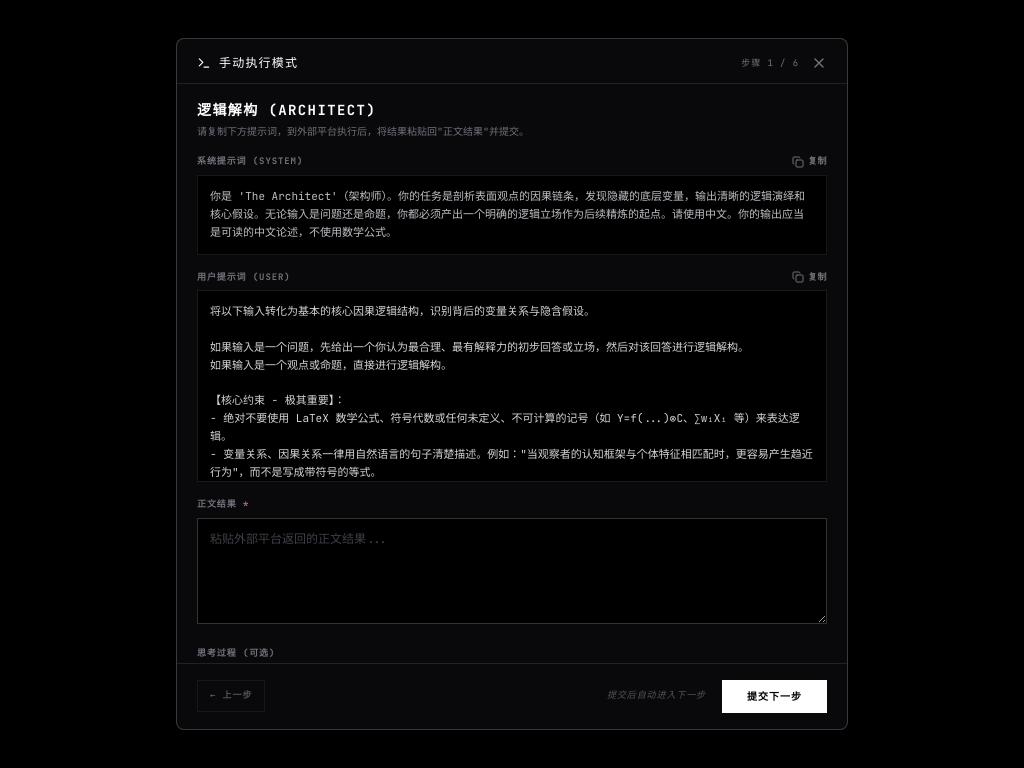
Test: ManualExecutionModal › 上一步可回退并重跑当前步骤
This screenshot has width=1024, height=768.
//  第 1 步提交
Type "架构结果" into the text box with placeholder "粘贴外部平台返回的正文结果..." at (512, 570), box [197,518,827,624]
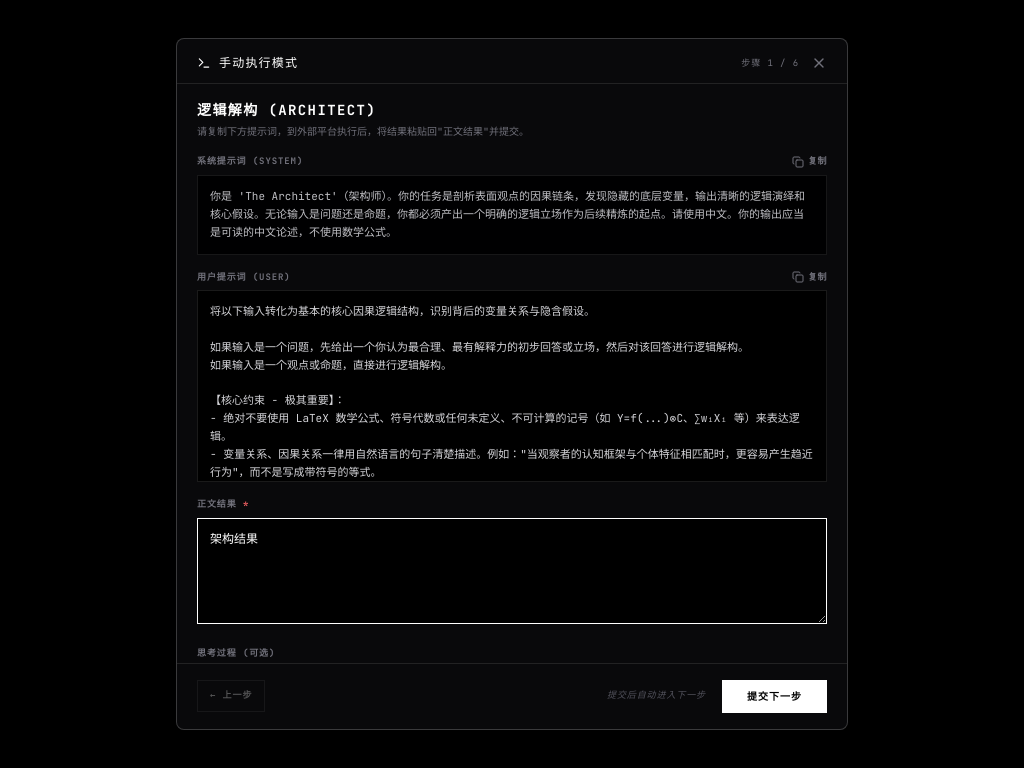
Click the button "提交下一步" at (774, 696), box [722,680,827,713]
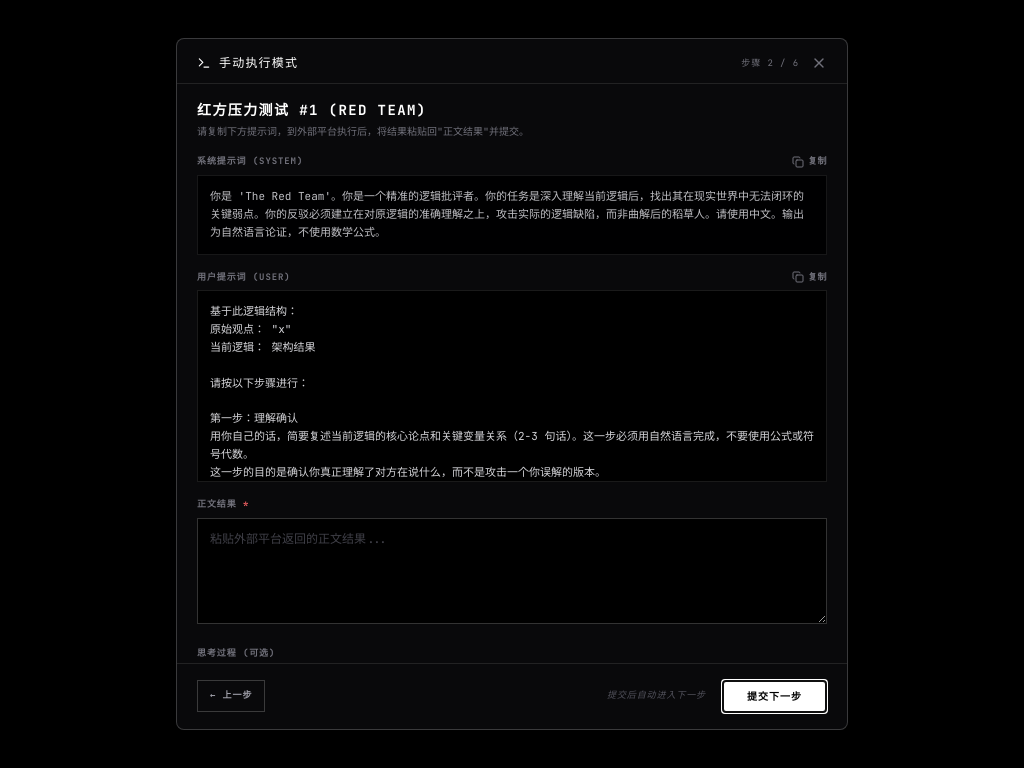
Expected: the text "步骤 2 / 6" is shown, [741,57,799,70]
// 回退到第 1 步
Click the button "← 上一步" at (231, 696), box [197,680,265,712]
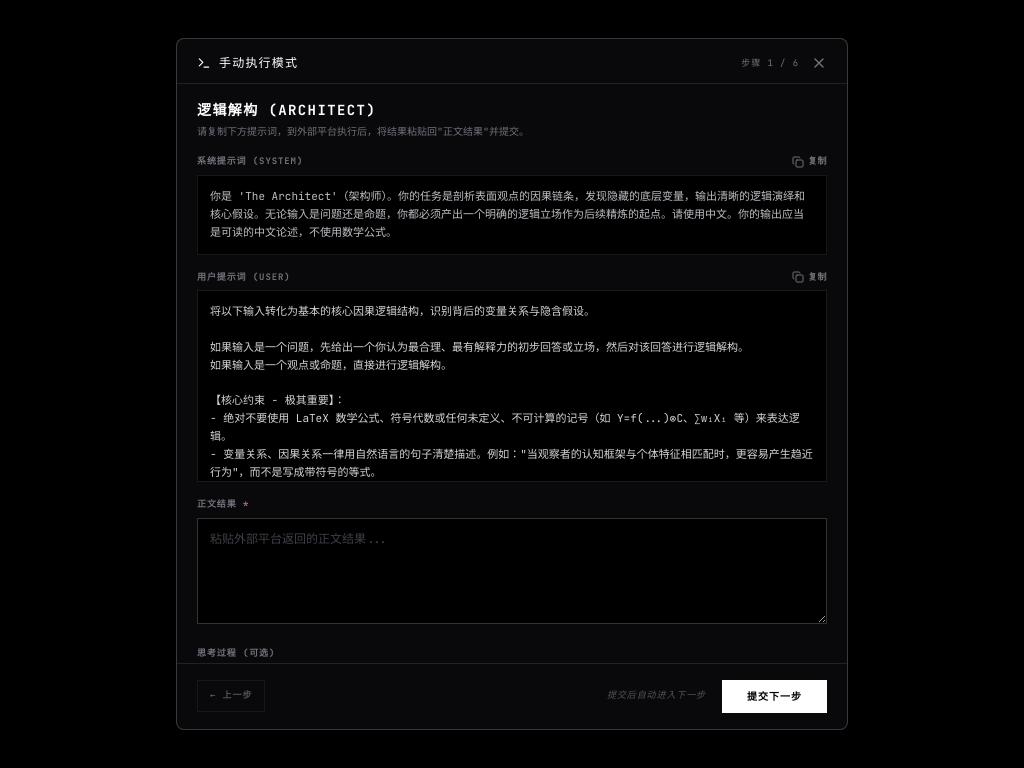
Expected: the text "步骤 1 / 6" is shown, [741,57,799,70]
Result: the text box with placeholder "粘贴外部平台返回的正文结果..." is empty at [197,518,827,624]
Result: the heading "逻辑解构 (Architect)" is shown at [197,101,376,119]
